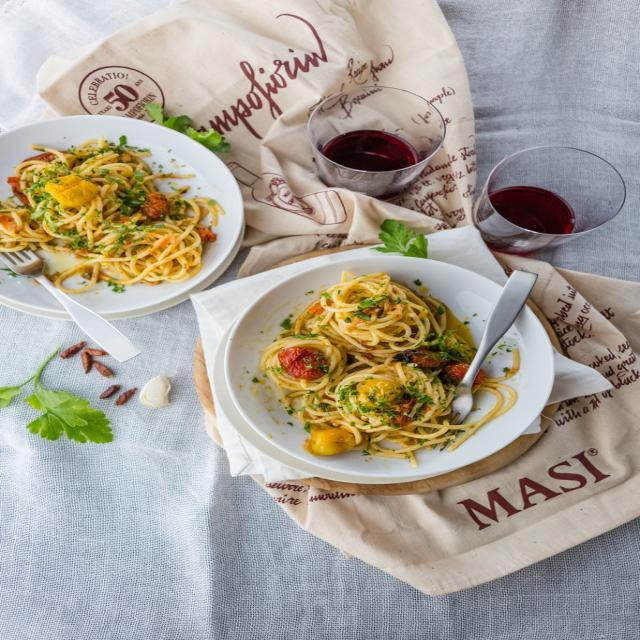Oil pasta: (256, 259, 544, 468)
